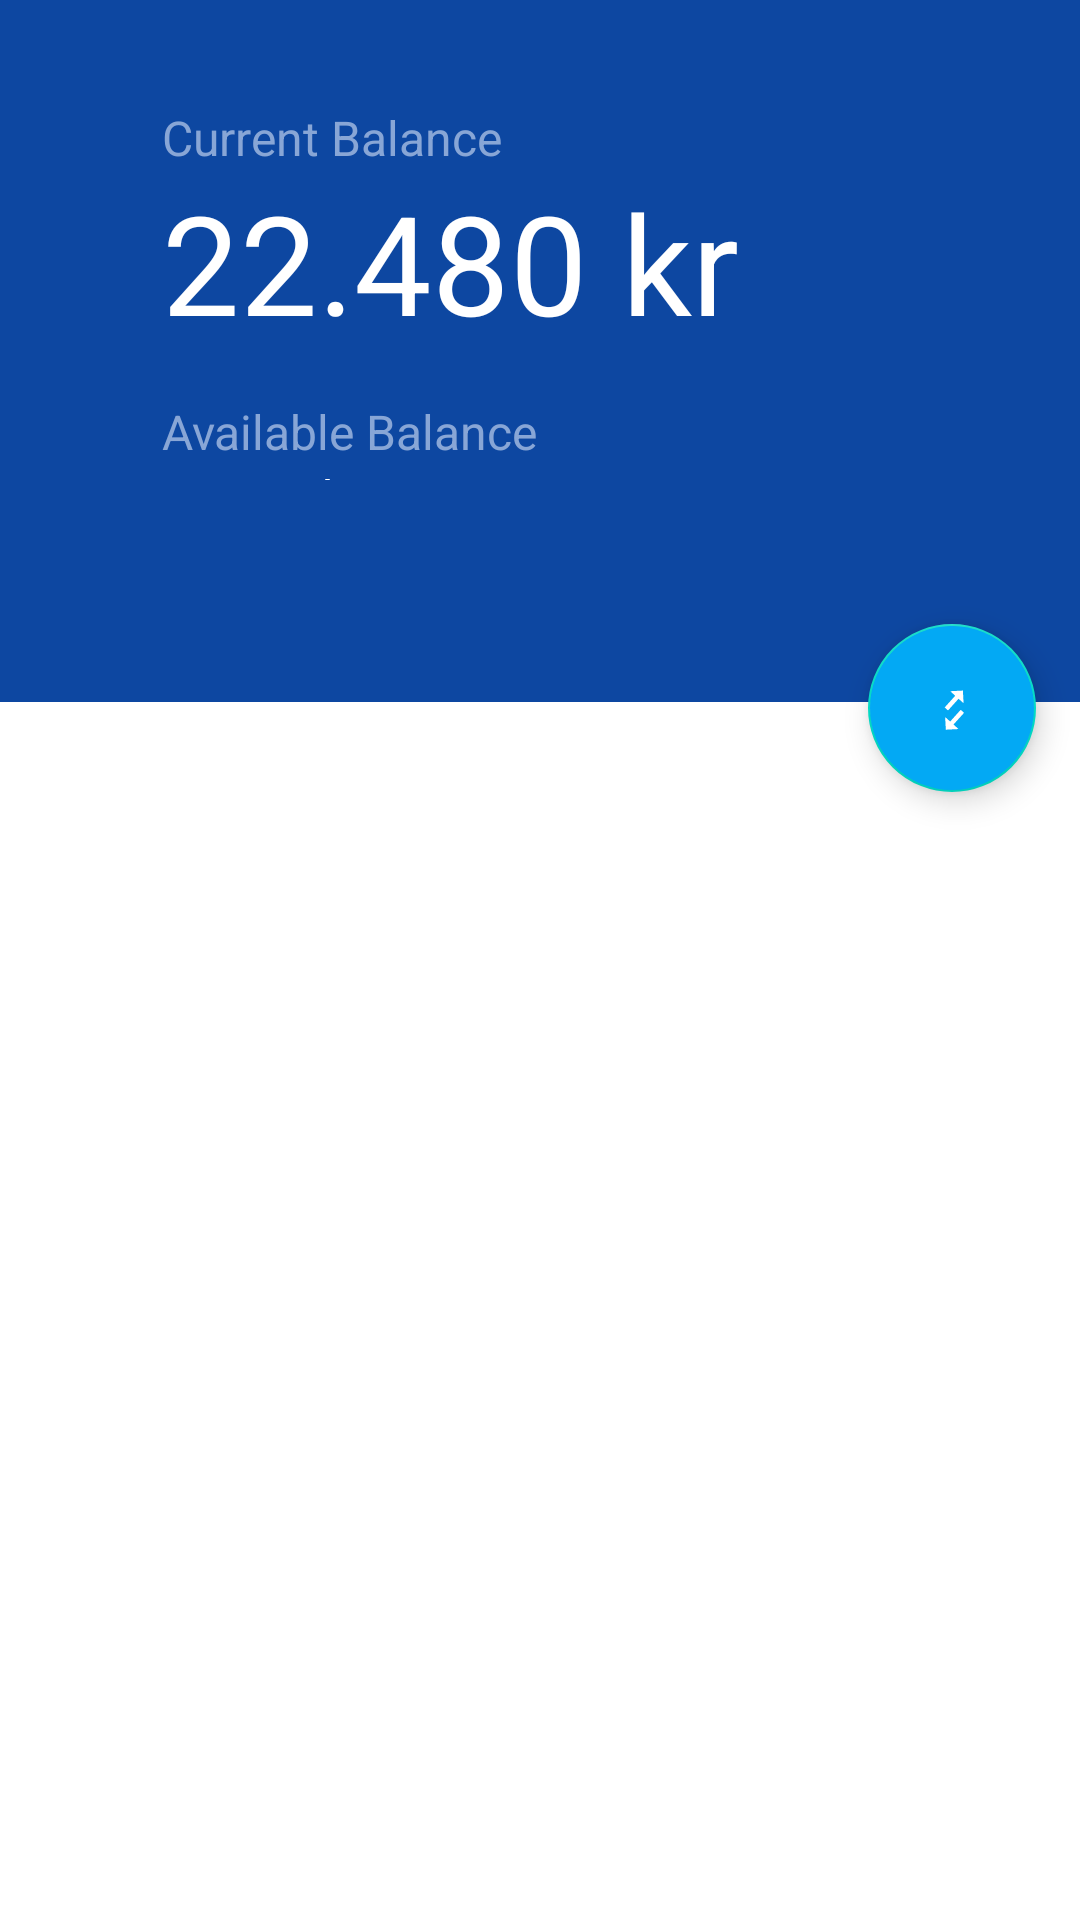

Named icons in this screenshot (1080px×1920px) and their centers, (x,y):
transfer: (952,708)
